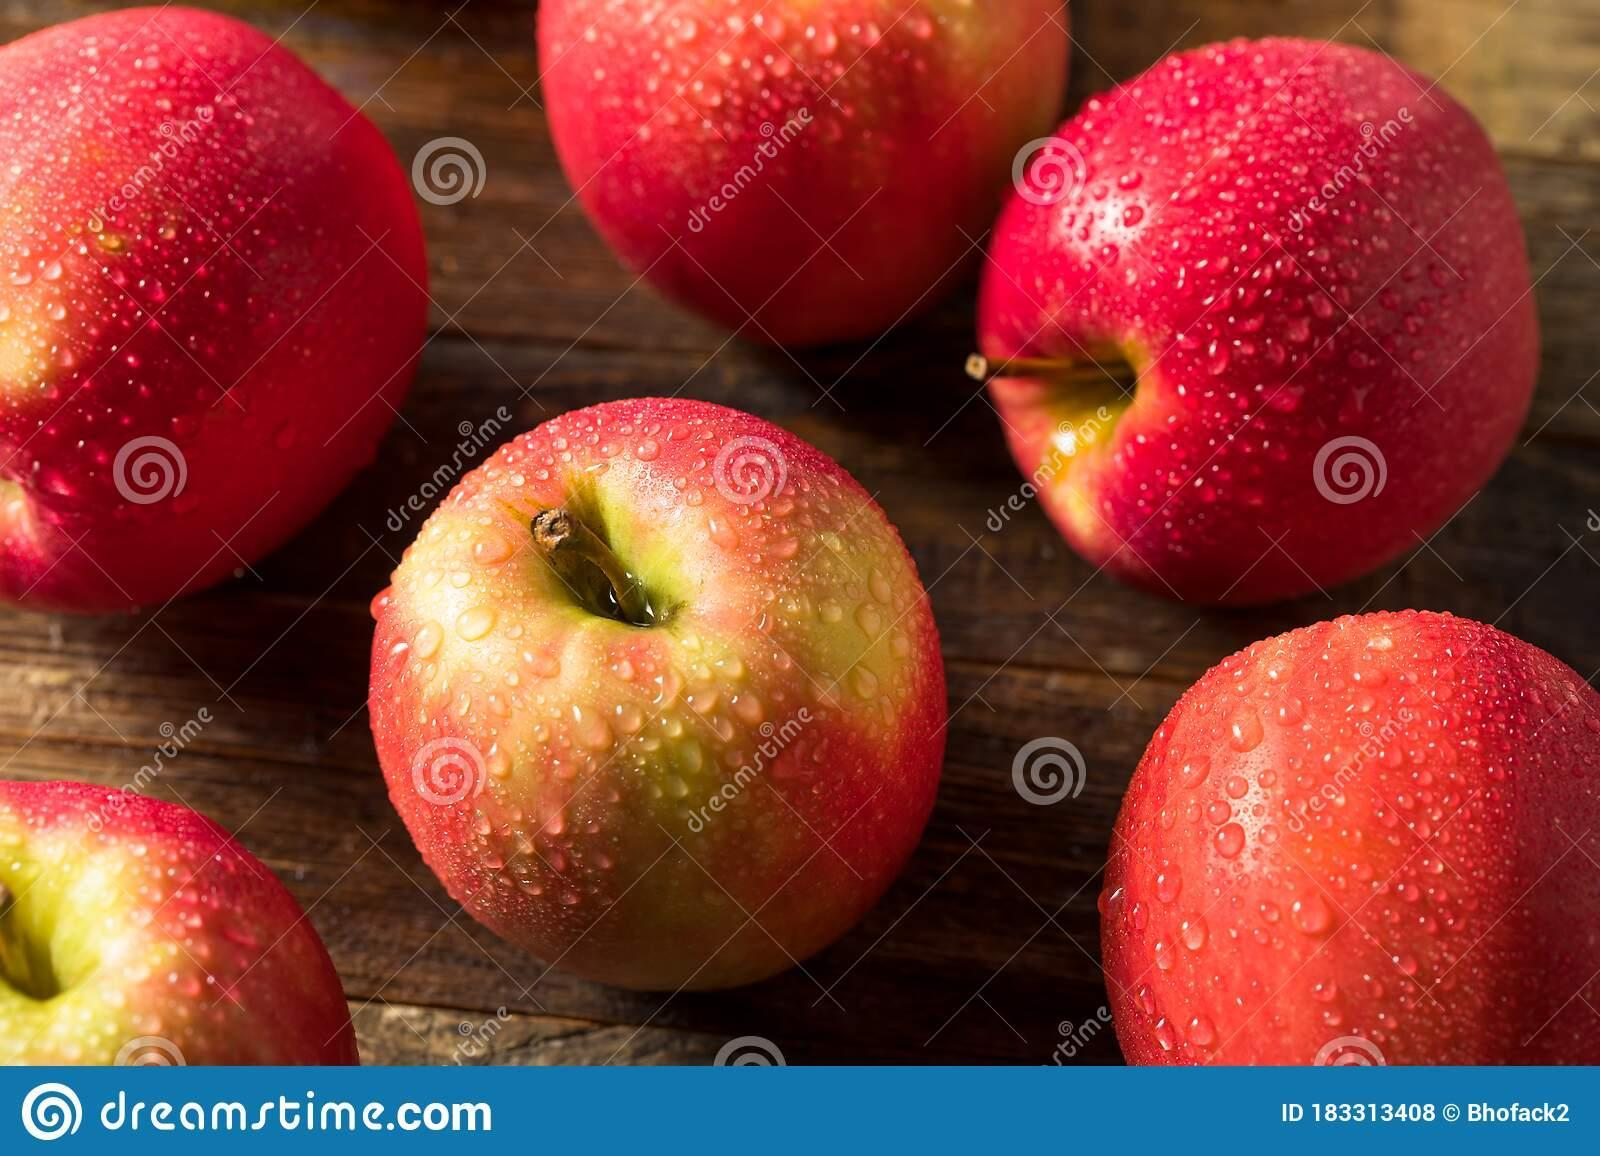apple: (370, 395, 955, 998), (970, 35, 1542, 603), (1, 1, 437, 641), (1097, 611, 1600, 1067), (537, 1, 1072, 350), (2, 779, 359, 1074)
